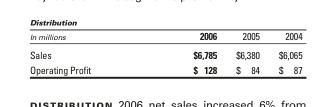table: (28, 29, 301, 75)
table column: (28, 29, 141, 75), (141, 29, 225, 75), (225, 29, 268, 75), (268, 29, 301, 75)
table column header: (28, 29, 301, 44)
table row: (28, 44, 301, 62), (28, 29, 301, 44), (28, 62, 301, 75)
